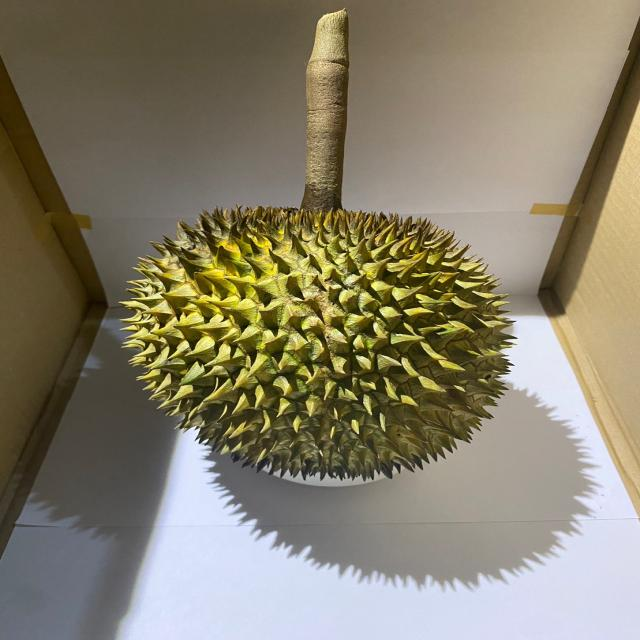immature: (118, 205, 518, 480)
